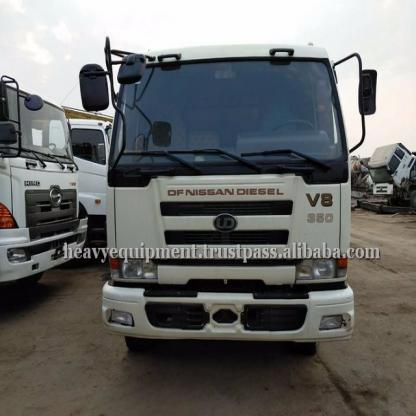dump_truck: (103, 21, 361, 360), (0, 66, 92, 306)
